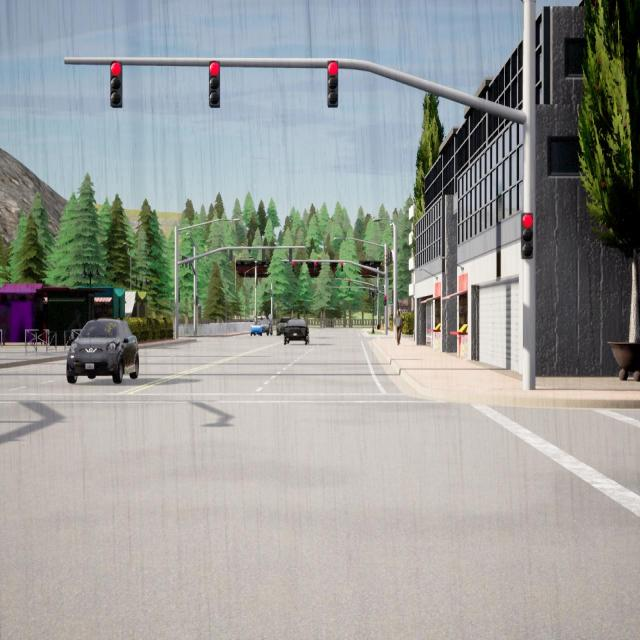Pedestrian: (393, 310, 404, 345), (297, 313, 300, 320)
Traffic_Signs: (268, 314, 272, 319)
Vehicle: (66, 319, 139, 384), (284, 319, 310, 345), (276, 317, 292, 335), (259, 318, 273, 336), (250, 320, 262, 336)
traffic_light: (110, 61, 123, 108), (521, 212, 533, 259), (327, 61, 338, 108), (209, 61, 220, 107), (262, 248, 265, 262), (289, 248, 292, 261), (388, 252, 391, 265), (185, 257, 188, 268), (392, 290, 394, 304), (314, 262, 317, 271), (386, 254, 388, 267), (230, 249, 232, 261), (390, 252, 392, 264), (292, 261, 294, 272), (341, 261, 343, 272), (196, 296, 198, 306), (182, 256, 184, 266), (384, 296, 386, 306), (256, 277, 258, 285), (179, 288, 180, 302), (348, 279, 350, 286), (189, 262, 191, 269), (363, 288, 365, 294), (349, 288, 351, 293), (270, 289, 271, 295), (337, 288, 338, 293)
